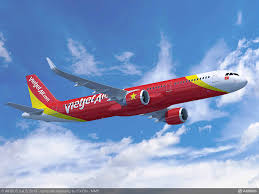maybay_dansu: (15, 60, 251, 131)
